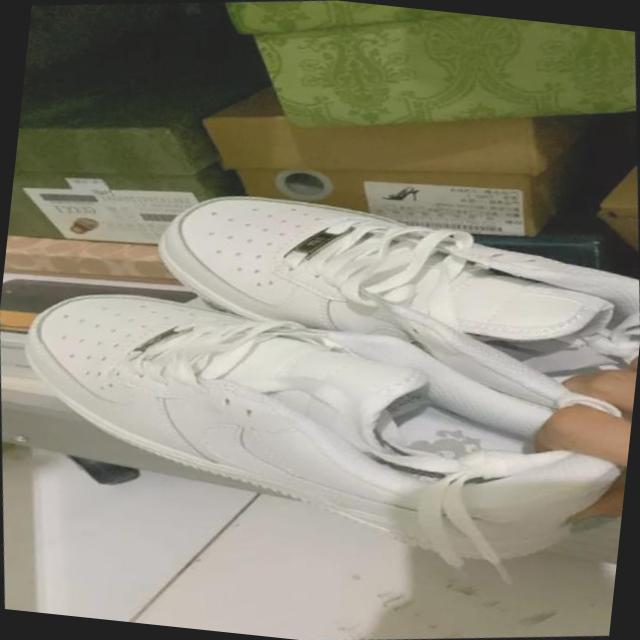nike_fake_airforce: (0, 219, 640, 630), (126, 137, 640, 466)
